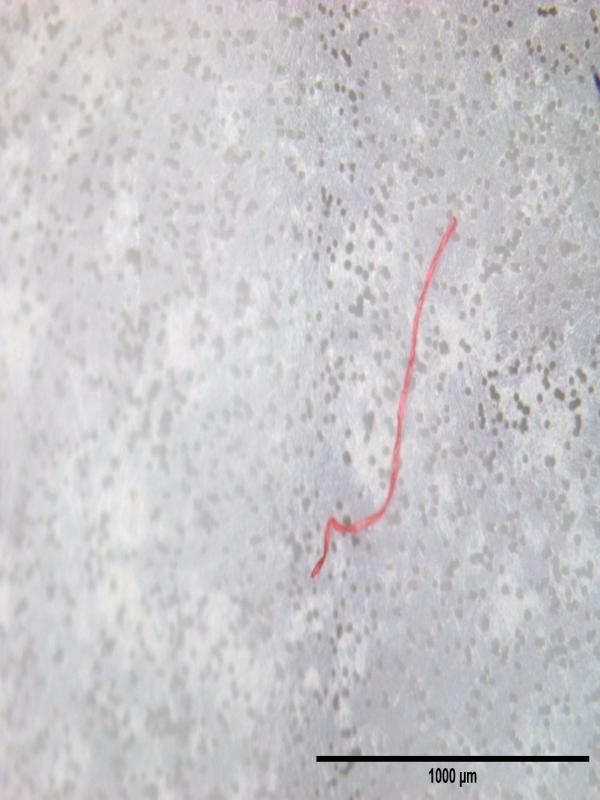microplastic: (309, 213, 458, 579)
